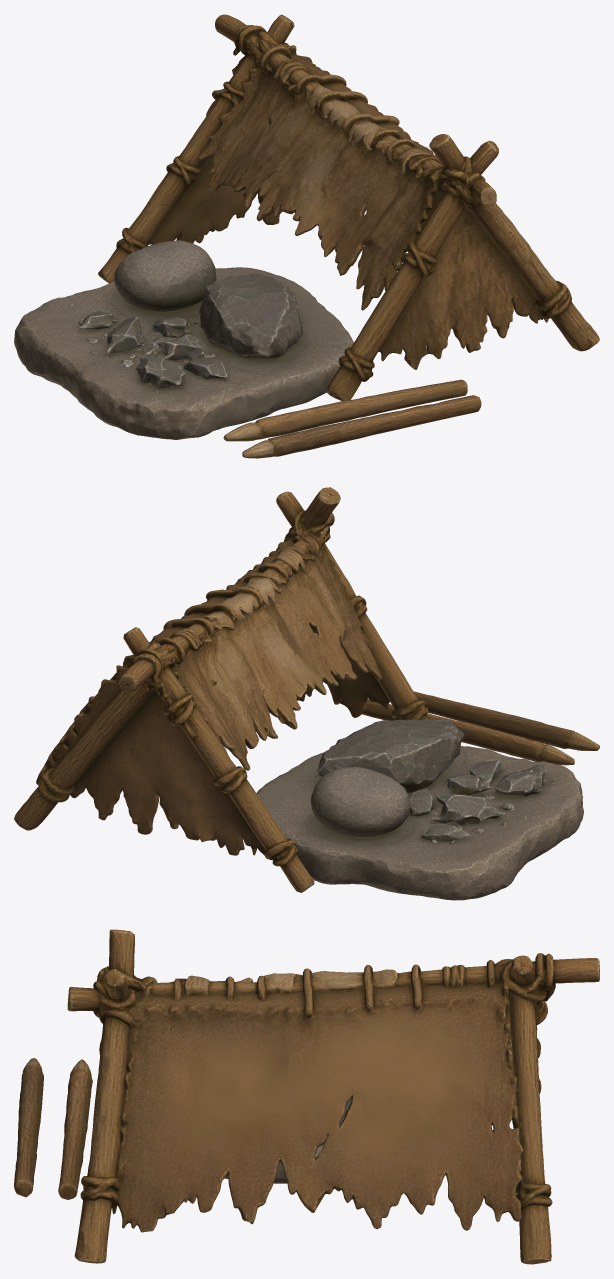
Rendered from Tool Maker (Western).fbx.
The picture shows the model from 3 angles, top to bottom: view 1: azimuth 30°, elevation 25°; view 2: azimuth 150°, elevation 25°; view 3: azimuth 270°, elevation 25°; orthographic projection. The views are drawn at different scales.
Parts seen in each view (by area): view 1: tripo_node_dc0f20e5; view 2: tripo_node_dc0f20e5; view 3: tripo_node_dc0f20e5.
Part boxes in pixels (x1,y1,x2,y2): tripo_node_dc0f20e5: [14, 14, 599, 458]; tripo_node_dc0f20e5: [14, 487, 599, 900]; tripo_node_dc0f20e5: [14, 929, 599, 1264].
Size of the model in its own units: 0.9847 by 0.5317 by 1.
